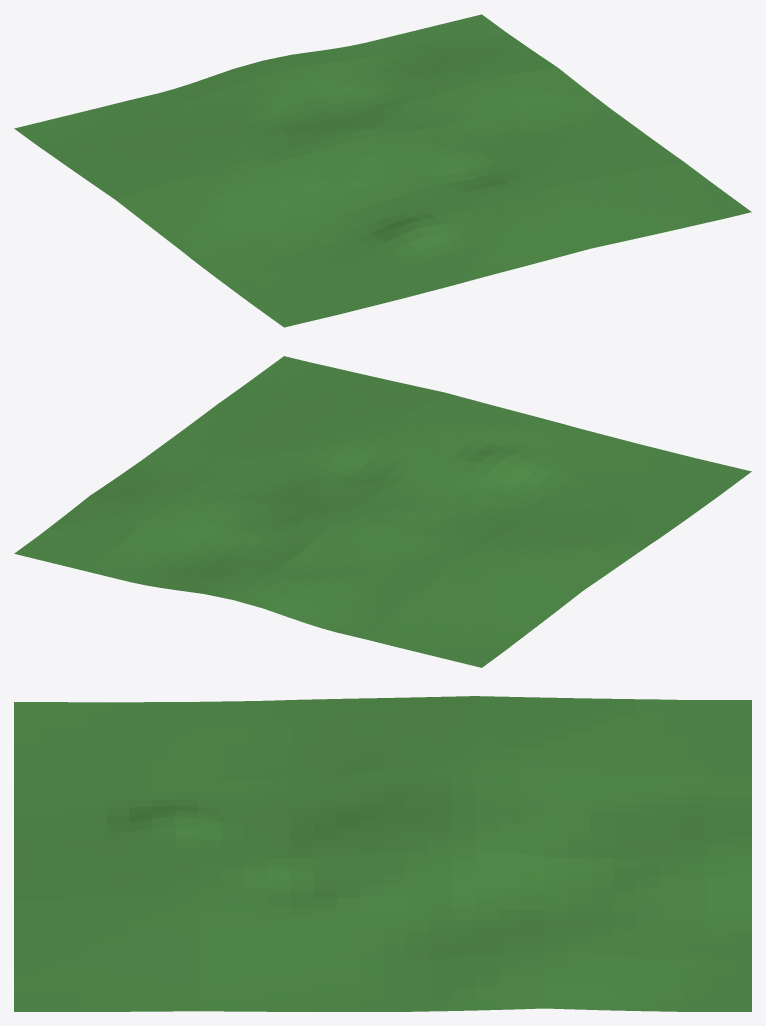
The model's file is grass1 1.fbx.
3 renders of one model, top to bottom at view 1: azimuth 30°, elevation 25°; view 2: azimuth 150°, elevation 25°; view 3: azimuth 270°, elevation 25°, orthographic. The views are drawn at different scales.
Visible parts, largest first — view 1: Plane; view 2: Plane; view 3: Plane.
Boxes of the visible parts, x1,y1,x2,y2 form: Plane: [14, 14, 751, 327]; Plane: [14, 356, 751, 667]; Plane: [14, 696, 751, 1011].
Bounding box in the file's own units: 20 × 20 × 0.6355.
